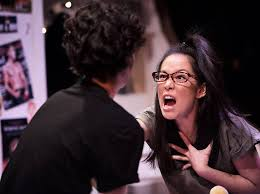asian_female: (148, 34, 216, 144)
